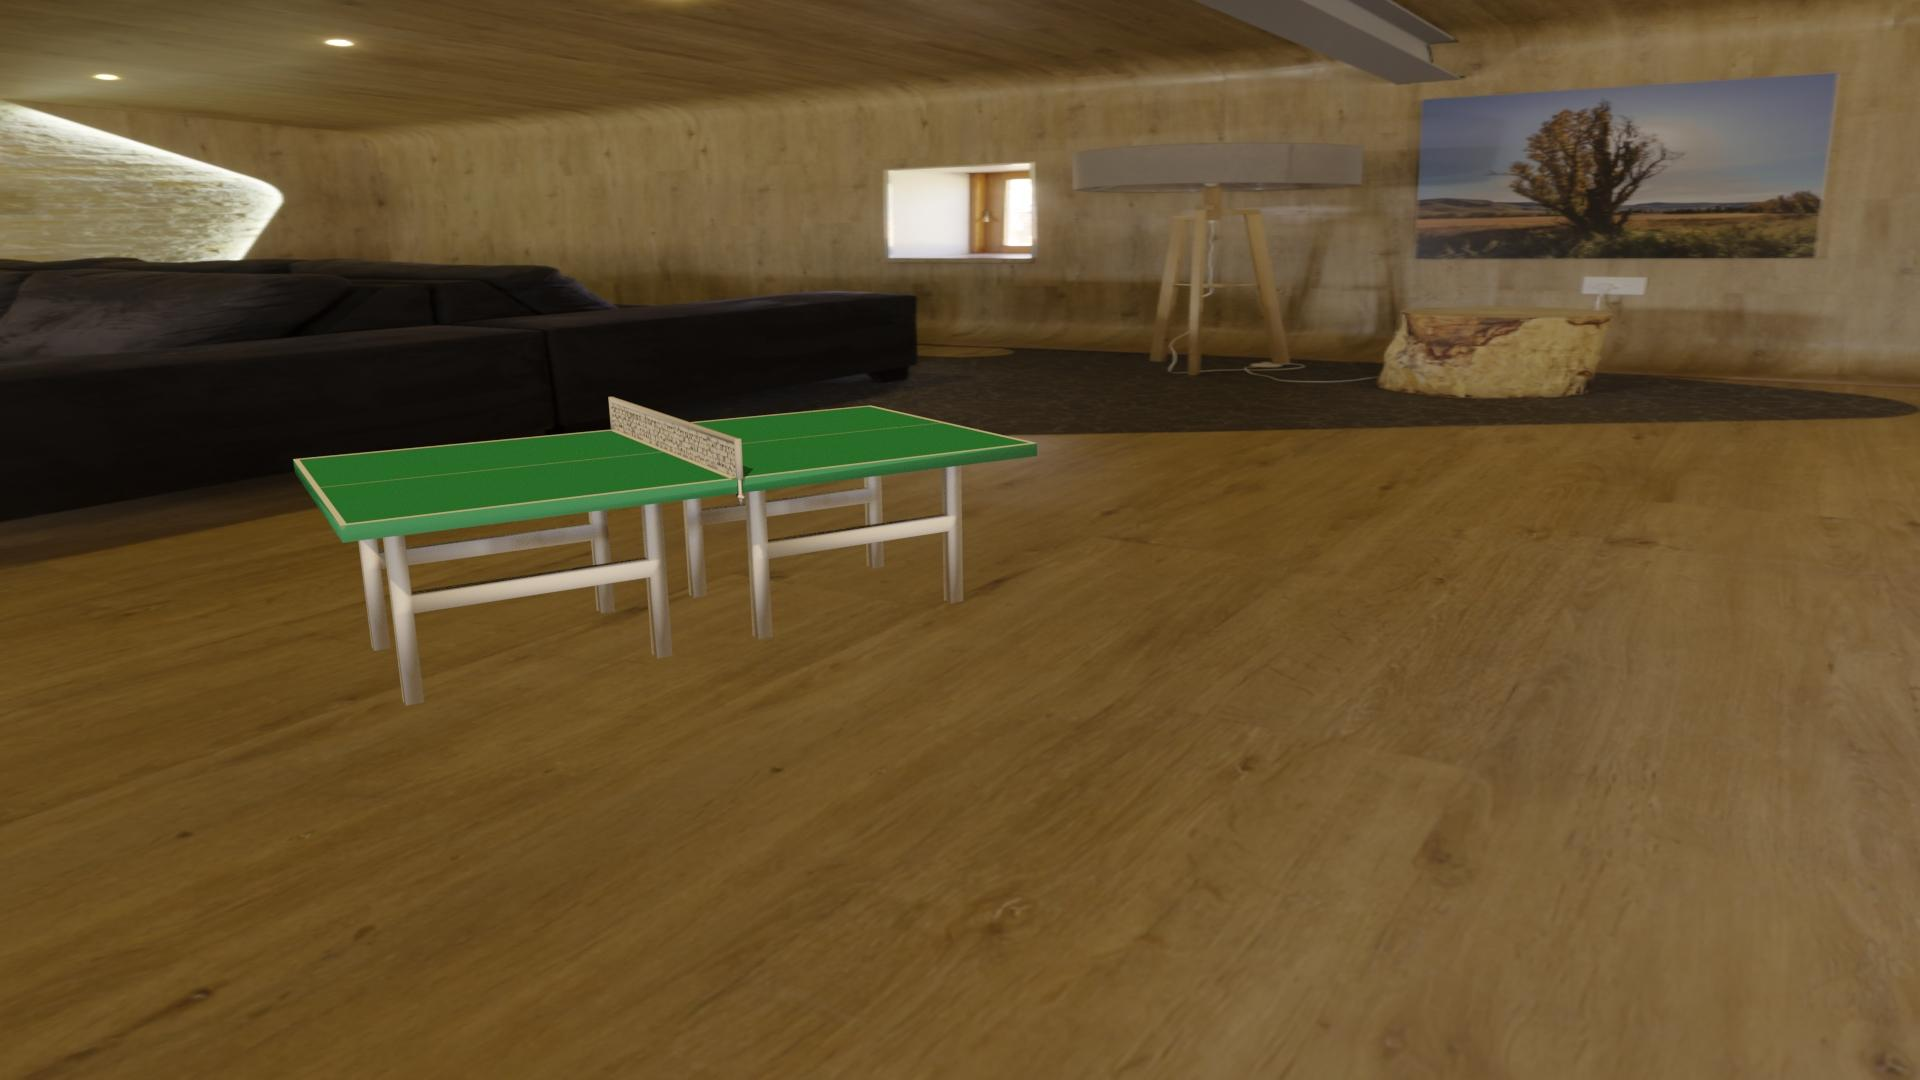table: (299, 406, 1031, 524)
